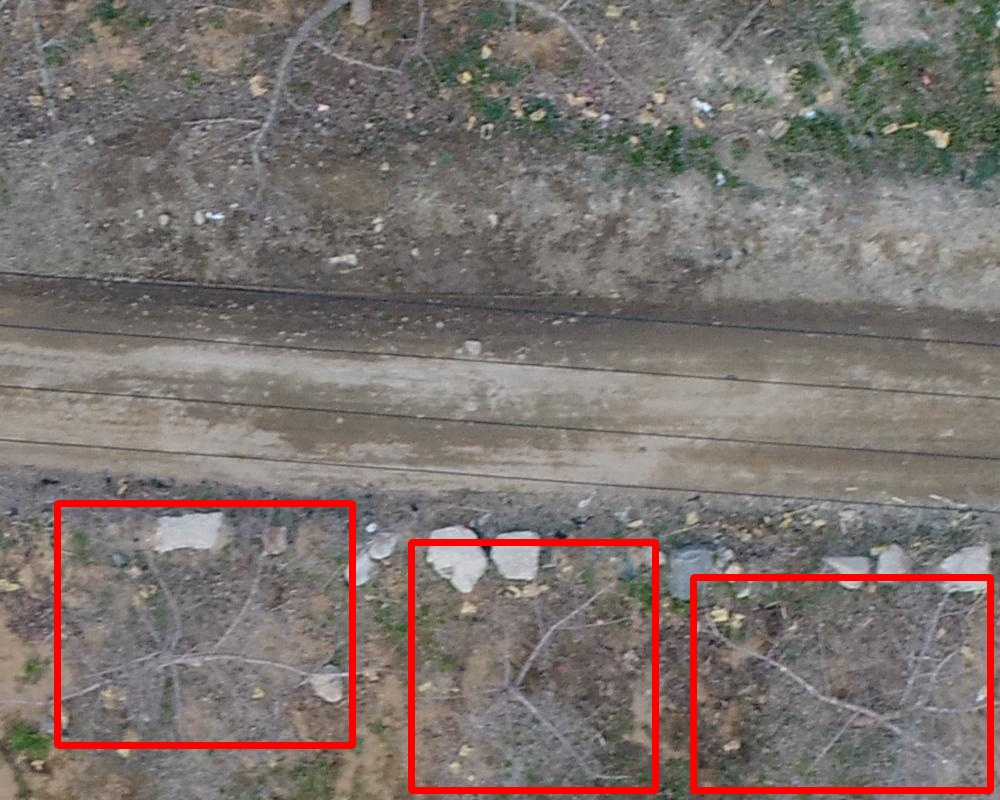apple: (57, 503, 352, 745), (693, 577, 990, 790), (411, 542, 655, 790)
